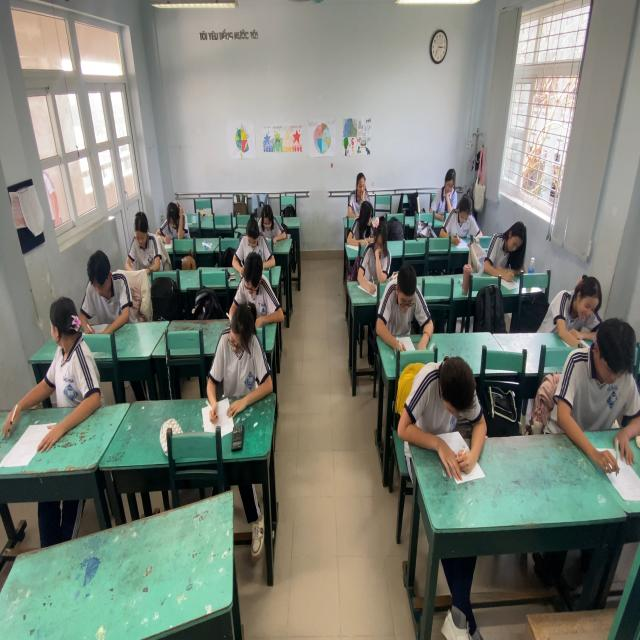cheating: (32, 291, 103, 405)
not_cheating: (559, 323, 639, 416), (217, 305, 285, 405), (420, 354, 491, 446), (77, 243, 132, 333), (382, 264, 435, 354), (540, 270, 602, 336), (242, 250, 285, 326), (489, 220, 540, 284), (129, 206, 163, 280), (359, 220, 398, 284), (441, 192, 484, 243), (156, 197, 192, 243), (250, 201, 289, 243), (346, 198, 376, 243), (234, 222, 272, 257), (435, 163, 458, 211), (347, 174, 373, 201)
